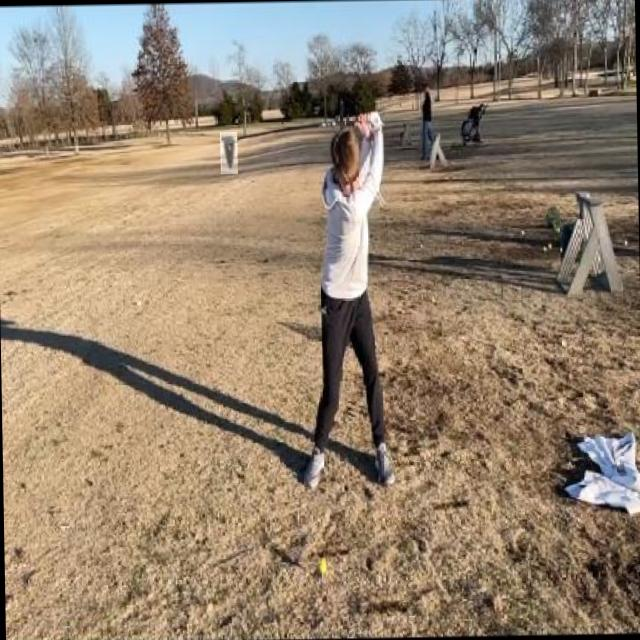club head: (220, 132, 238, 174)
